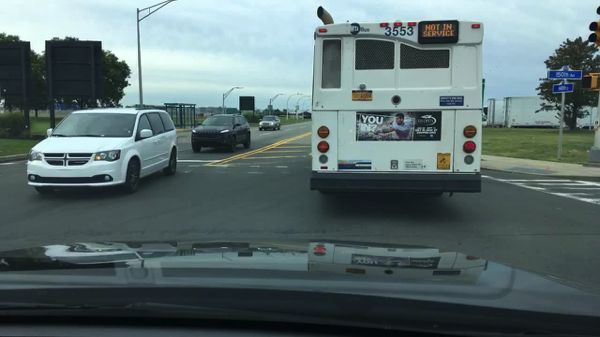bus: (308, 6, 482, 195)
car: (26, 109, 178, 195), (190, 114, 249, 154), (258, 115, 280, 132)
traffic light: (588, 7, 599, 48), (579, 75, 597, 89)
traffic sign: (44, 40, 104, 100), (0, 42, 32, 102), (546, 68, 582, 80), (552, 82, 573, 93), (239, 97, 254, 111), (481, 78, 484, 106), (225, 107, 236, 114)
truck: (480, 96, 599, 131)
